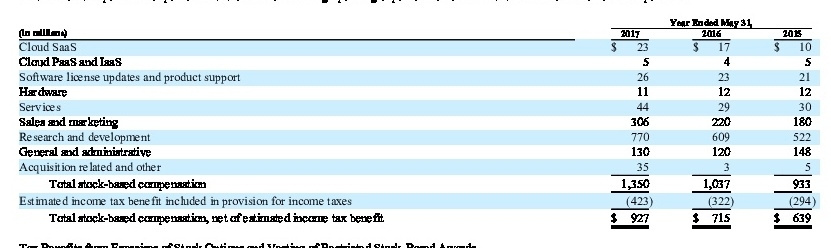table: (0, 0, 831, 248)
